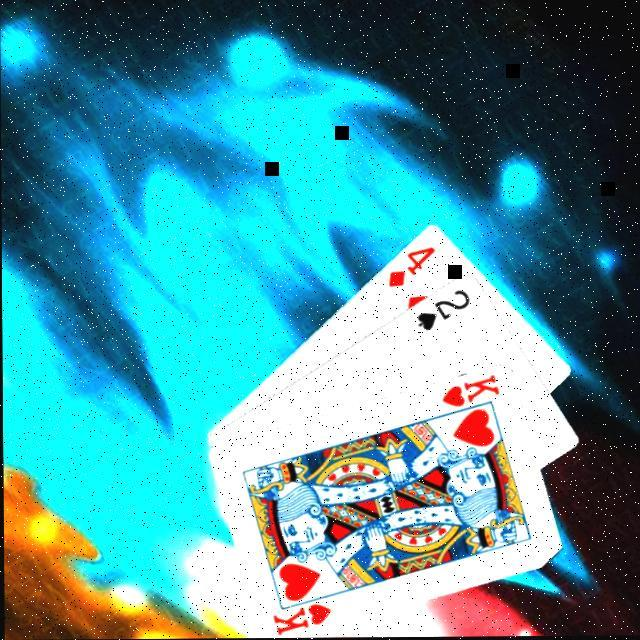2S: (416, 288, 474, 336)
4D: (386, 245, 440, 292)
KH: (440, 374, 504, 412), (272, 602, 336, 638)
